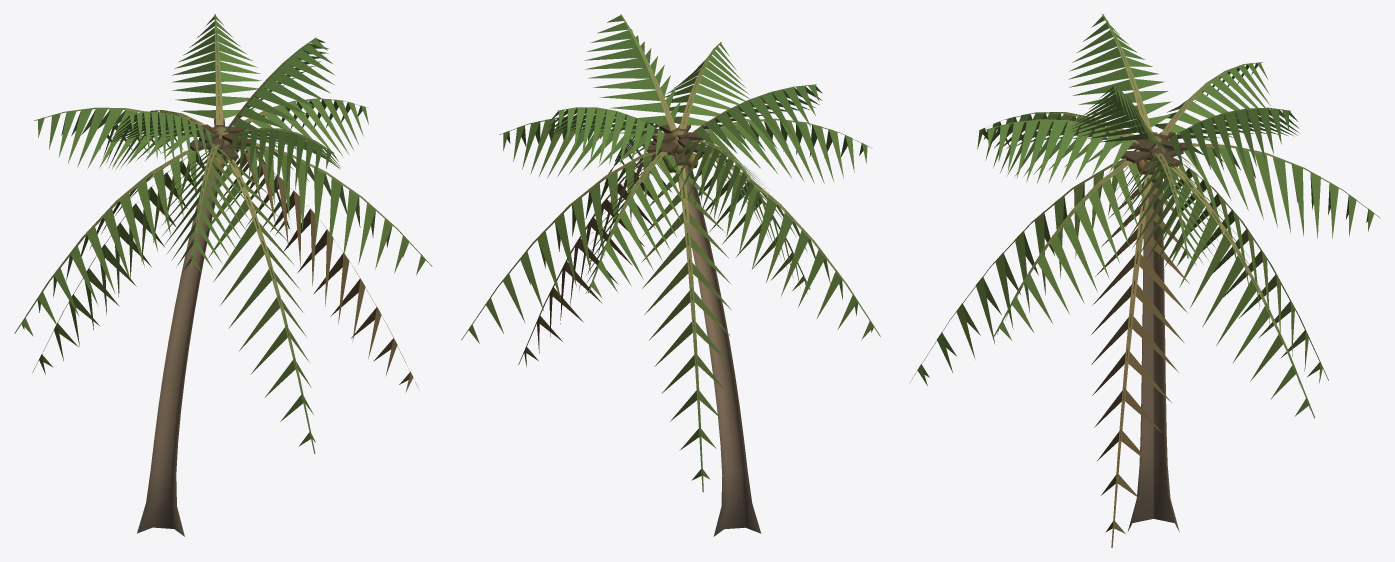
The model's file is mainsail-palm-far.glb.
The picture shows the model from 3 angles, left to right: view 1: azimuth 30°, elevation 25°; view 2: azimuth 150°, elevation 25°; view 3: azimuth 270°, elevation 25°; orthographic projection. The views are drawn at different scales.
Visible parts, largest first — view 1: palm leaf, palm bark; view 2: palm leaf, palm bark; view 3: palm leaf, palm bark.
Part boxes in pixels (<box>): palm leaf: <box>14,14,432,453</box>; palm bark: <box>137,119,250,536</box>; palm leaf: <box>461,14,880,492</box>; palm bark: <box>647,124,761,536</box>; palm leaf: <box>910,14,1380,547</box>; palm bark: <box>1120,131,1187,531</box>.
Size of the model in its own units: 6.72 by 8.01 by 6.62.
